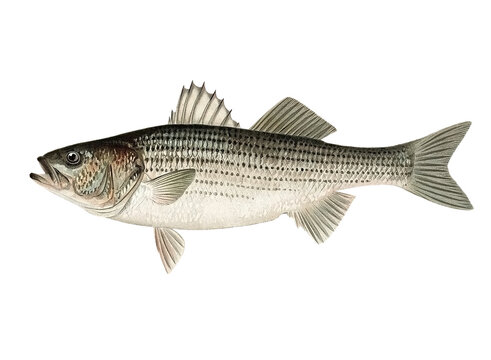Striped Bass: (16, 91, 484, 283)
